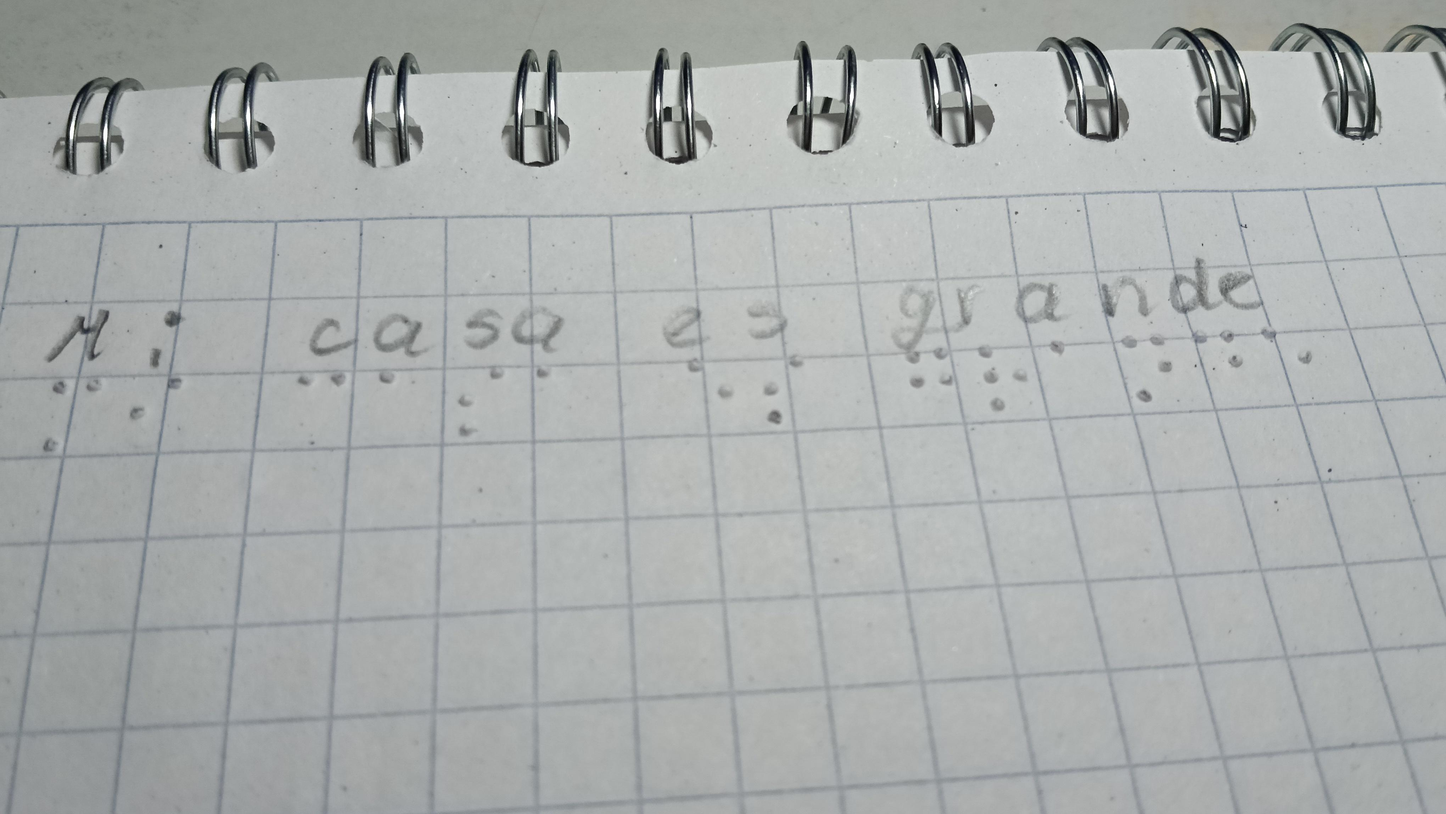a: (523, 356, 569, 401), (1033, 330, 1083, 365), (362, 365, 411, 399)
c: (285, 360, 360, 408)
d: (1182, 314, 1248, 381)
e: (657, 358, 744, 413), (1256, 319, 1318, 379)
g: (890, 346, 964, 395)
i: (113, 372, 193, 438)
m: (32, 370, 106, 464)
n: (1104, 328, 1184, 409)
r: (966, 339, 1042, 418)
s: (443, 367, 516, 447), (751, 351, 822, 431)
